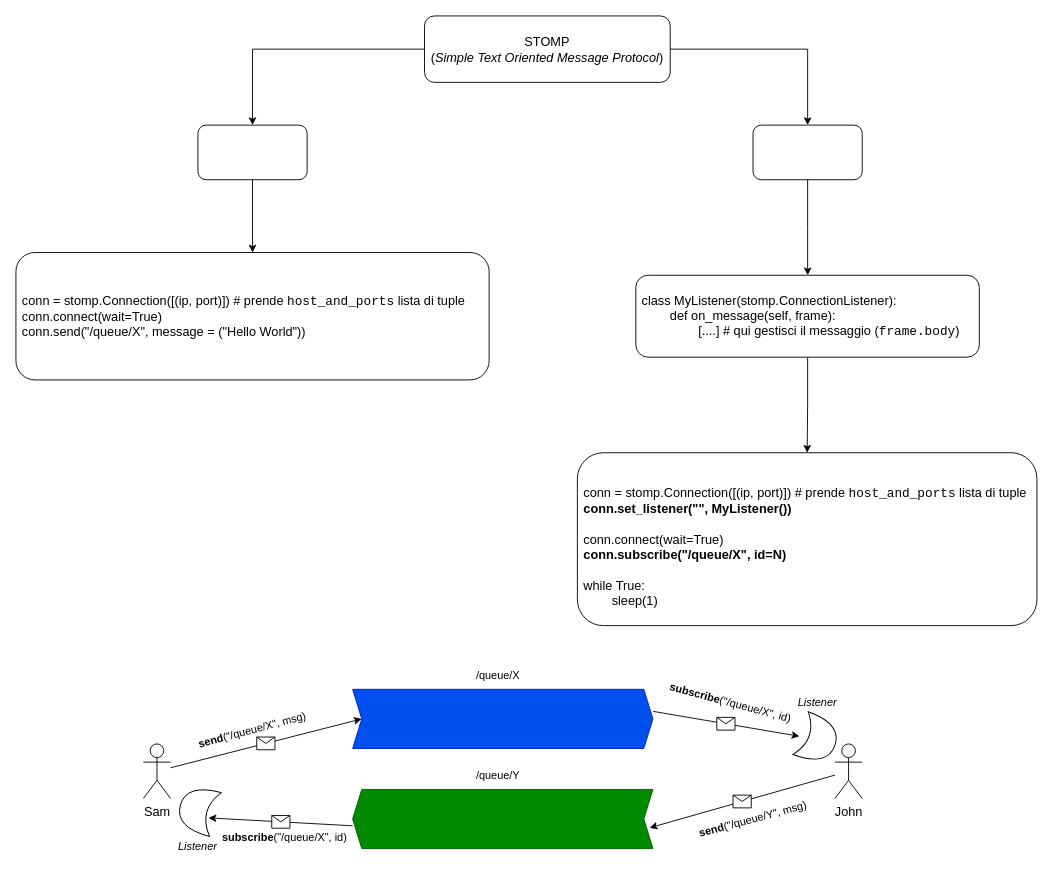
Some shapes in this 1053 by 875 pixel diagram are drawn without their labels. The centre of each missing label's shape, as x and y in pixels:
"Receiver" belongs at (807,152).
"Sender" belongs at (252,152).
